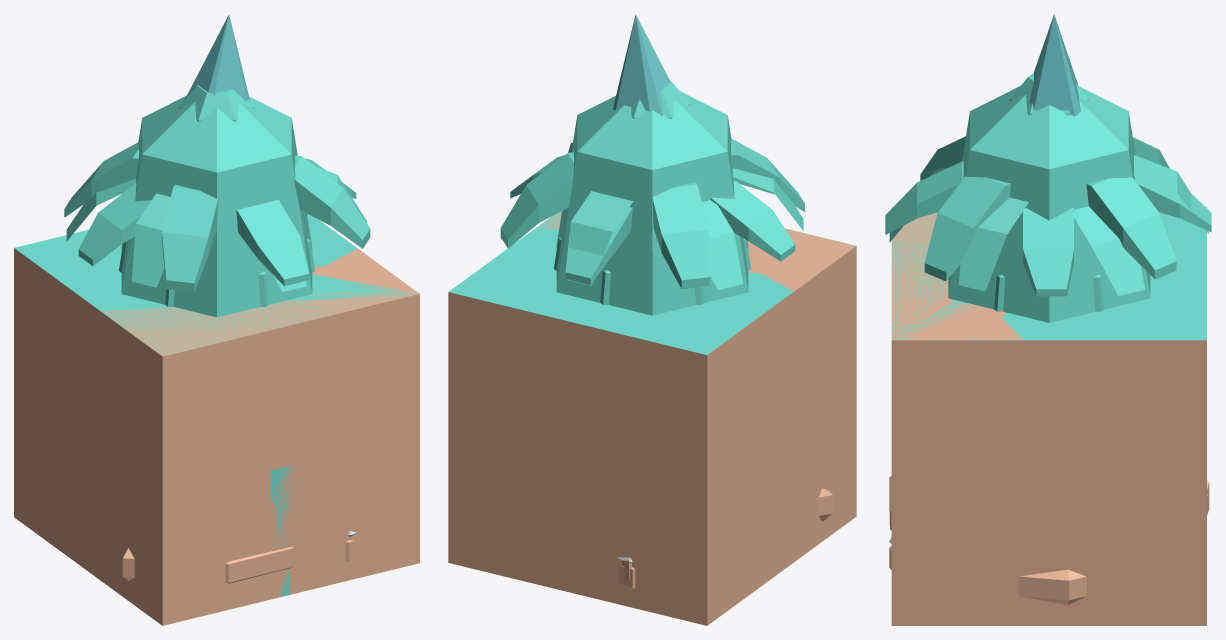
Rendered from lib-nature.glb.
3 renders of one model, left to right at view 1: azimuth 30°, elevation 25°; view 2: azimuth 150°, elevation 25°; view 3: azimuth 270°, elevation 25°, orthographic. The views are drawn at different scales.
Visible parts, largest first — view 1: cliff_large_rock, cliff_block_rock, tree_default, leafs (×2), tree_palmTall, tree_palmBend, tree_pineTallB_detailed, rock_largeC, tree_tall, hanging_moss, log_large, tree_oak; view 2: cliff_block_rock, tree_default, leafs (×2), cliff_large_rock, tree_palmBend, tree_palmTall, tree_pineTallB_detailed, tree_tall, tree_oak, rock_largeC; view 3: cliff_block_rock, cliff_large_rock, tree_default, leafs (×2), tree_palmTall, tree_palmBend, log_large, tree_pineTallB_detailed, rock_largeC, tree_oak, tree_tall.
Boxes of the visible parts, x1,y1,x2,y2 form: cliff_large_rock: (100,248,419,625); cliff_block_rock: (14,213,418,625); tree_default: (121,95,312,317); leafs (×2): (64,142,370,291); tree_palmTall: (78,158,324,279); tree_palmBend: (66,166,367,291); tree_pineTallB_detailed: (184,14,250,101); rock_largeC: (122,547,294,583); tree_tall: (179,85,254,121); hanging_moss: (270,465,296,596); log_large: (62,461,99,576); tree_oak: (119,238,314,306); cliff_block_rock: (448,211,856,625); tree_default: (556,91,748,315); leafs (×2): (500,138,804,288); cliff_large_rock: (537,211,856,547); tree_palmBend: (501,142,803,290); tree_palmTall: (510,155,795,284); tree_pineTallB_detailed: (613,14,670,115); tree_tall: (631,81,690,118); tree_oak: (554,236,750,304); rock_largeC: (622,488,833,579); cliff_block_rock: (891,207,1206,625); cliff_large_rock: (891,207,1023,625); tree_default: (948,86,1150,322); leafs (×2): (900,136,1176,295); tree_palmTall: (885,161,1211,296); tree_palmBend: (889,155,1208,295); log_large: (1003,534,1095,618); tree_pineTallB_detailed: (1029,14,1080,116); rock_largeC: (889,476,1209,604); tree_oak: (994,274,1150,311); tree_tall: (1009,73,1088,115).
Size of the model in its own units: 1.06 by 1.93 by 1.03.
